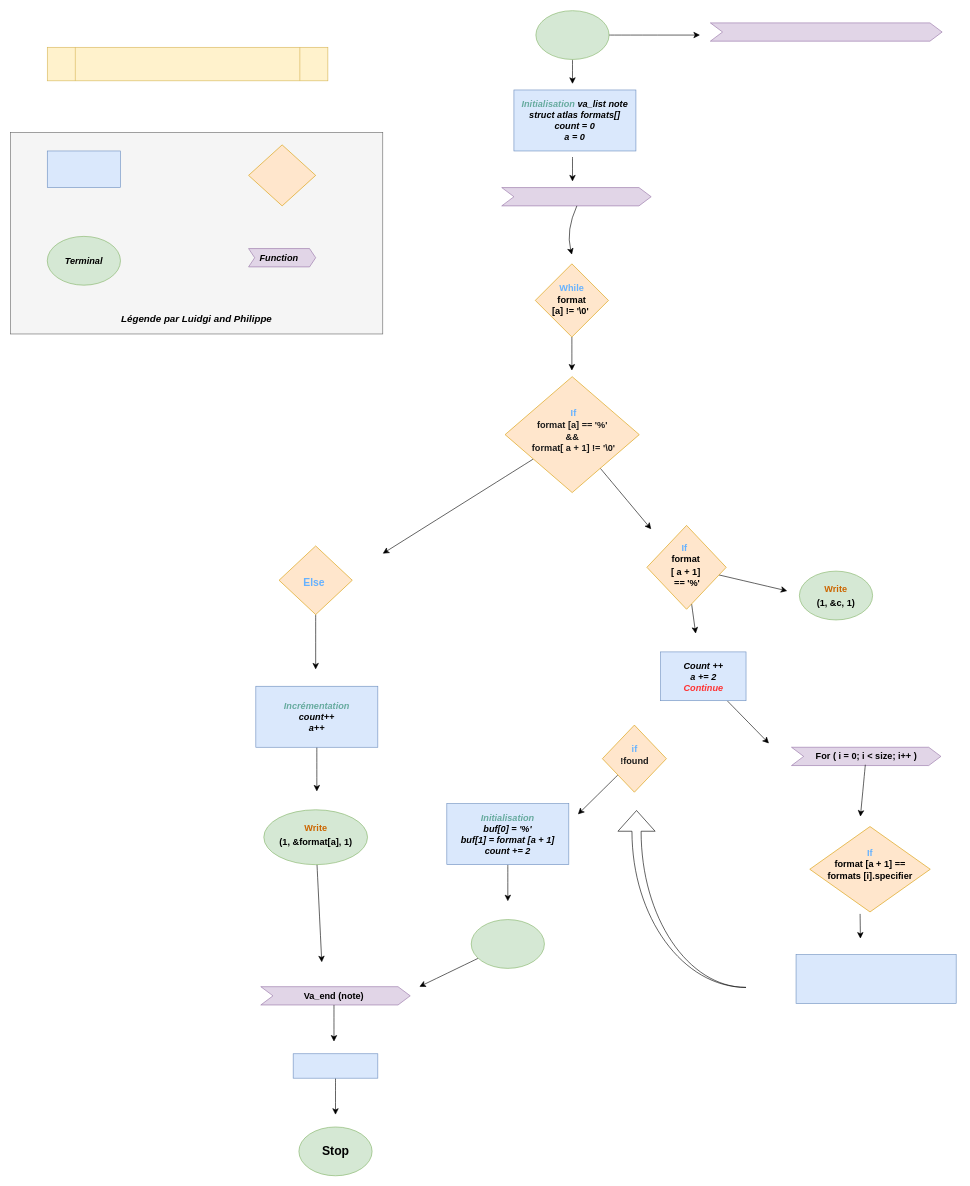
This 970x1186 diagram has some shape labels left out. The shapes that lost their labels are listed below. From the top down, each one's centre as x and y in pixels, then its label:
At point (572, 34): "Start".
At point (826, 31): "Function : int _printf(const char *format, ...)".
At point (187, 64): "Flowcharts function _print.c".
At point (83, 169): "Initialisation && Incrémentation".
At point (282, 175): "While && If".
At point (576, 196): "Va_start(note, format)".
At point (507, 943): "Write (1, buf, 2)".
At point (875, 978): "count =+ formats[i].handler(note) found = 1 Breack".
At point (335, 1065): "Return Count".
